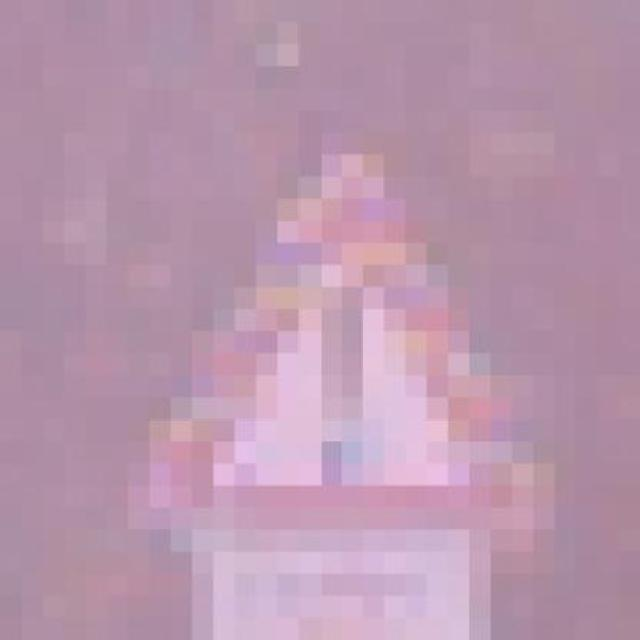Attention Please-: (107, 132, 555, 552)
